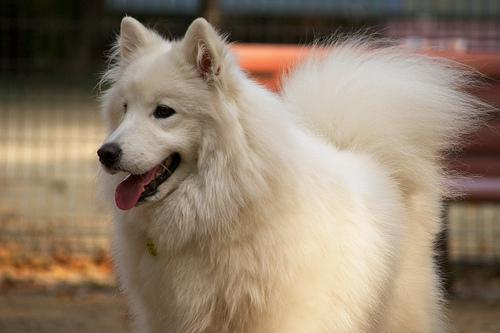dog-samoyed: (96, 16, 230, 209)
